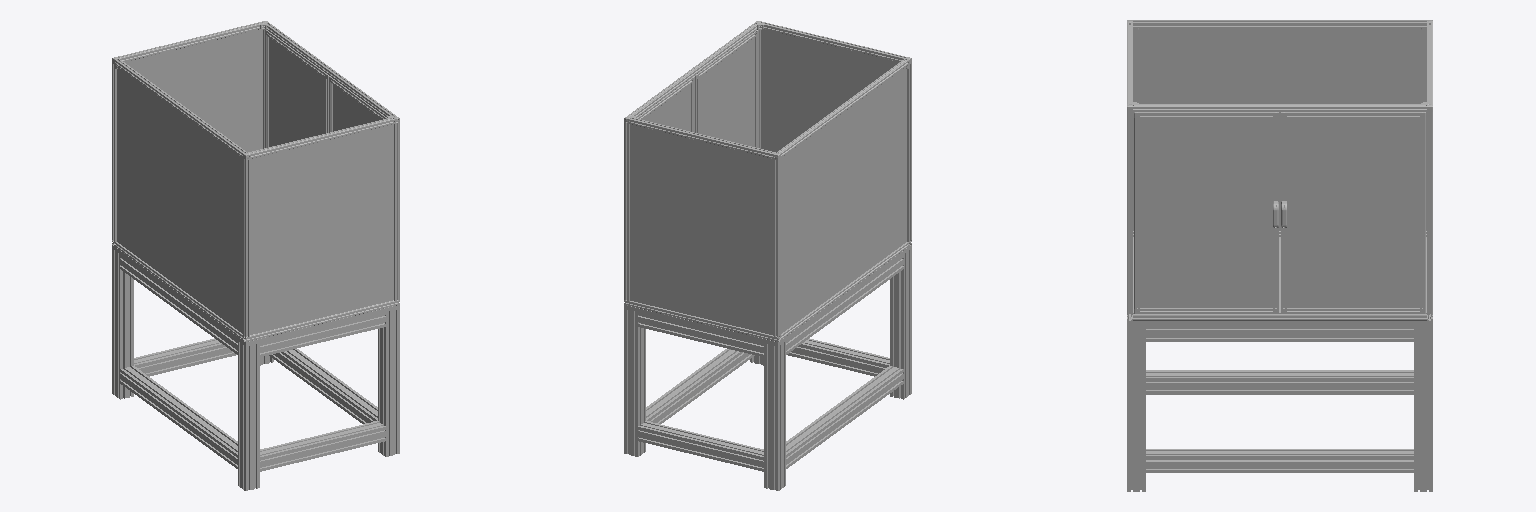
The robot description file, URDF, robot "cell_description":
<?xml version="1.0" ?>
<!-- =================================================================================== -->
<!-- |    This document was autogenerated by xacro from [local-path]/projects/denso/ros2_ws/src/cell_description/urdf/cell_description.xacro | -->
<!-- |    EDITING THIS FILE BY HAND IS NOT RECOMMENDED                                 | -->
<!-- =================================================================================== -->
<!-- This URDF was automatically created by SolidWorks to URDF Exporter! Originally created by [author] ([email redacted]) 
     Commit Version: 1.6.1-12-ge40d886  Build Version: 1.6.8301.19567
     For more information, please see http://wiki.ros.org/sw_urdf_exporter -->
<robot name="cell_description">
  <link name="base_link">
    <inertial>
      <origin rpy="0 0 0" xyz="0.0038941 -2.2879E-15 0.80696"/>
      <mass value="153.97"/>
      <inertia ixx="18.956" ixy="-5.5919E-11" ixz="-1.2948E-14" iyy="9.9166" iyz="1.6316E-11" izz="19.729"/>
    </inertial>
    <visual>
      <origin rpy="0 0 0" xyz="0 0 0"/>
      <geometry>
        <mesh filename="package://cell_description/meshes/base_link.STL"/>
      </geometry>
      <material name="">
        <color rgba="0.75294 0.75294 0.75294 1"/>
      </material>
    </visual>
    <collision>
      <origin rpy="0 0 0" xyz="0 0 0"/>
      <geometry>
        <mesh filename="package://cell_description/meshes/base_link.STL"/>
      </geometry>
    </collision>
  </link>
  <link name="world"/>
  <joint name="world_joint" type="fixed">
    <parent link="world"/>
    <child link="base_link"/>
    <origin rpy="0 0 0" xyz="0 0 0"/>
  </joint>
</robot>

--- Render facts (derived) ---
The picture shows the robot from 3 angles, left to right: view 1: azimuth 30°, elevation 25°; view 2: azimuth 150°, elevation 25°; view 3: azimuth 270°, elevation 25°; orthographic projection.
Robot: cell_description — 2 links, 1 joints (1 fixed); root link world; default pose: every joint at zero.
Links seen in each view (by area): view 1: base_link; view 2: base_link; view 3: base_link.
Link boxes in pixels (x1,y1,x2,y2): base_link: (112,21,399,490); base_link: (624,21,911,490); base_link: (1127,20,1432,491).
Size in the robot's own frame: 1.05 by 1.5 by 2.09 metres.
Meshes: 1 distinct files referenced, 1 mesh visuals loaded (1 binary STL).
